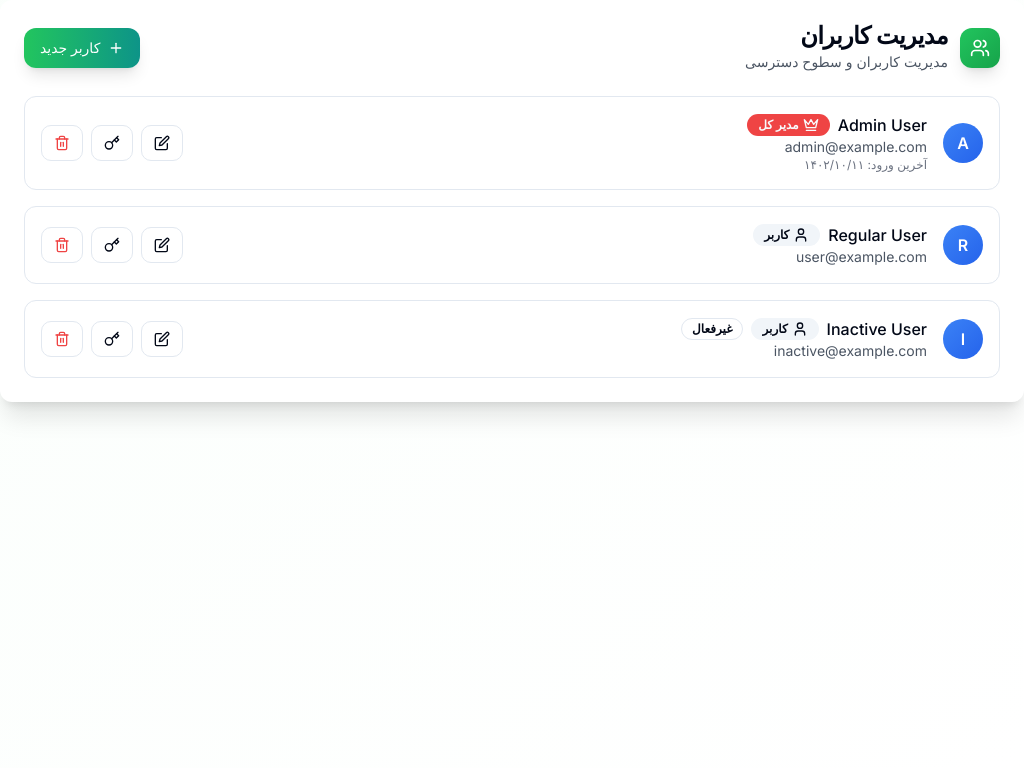
Test: UserManagement › should open create user dialog
This screenshot has width=1024, height=768.
Click the button "کاربر جدید" at (82, 48), box [24,28,140,68]
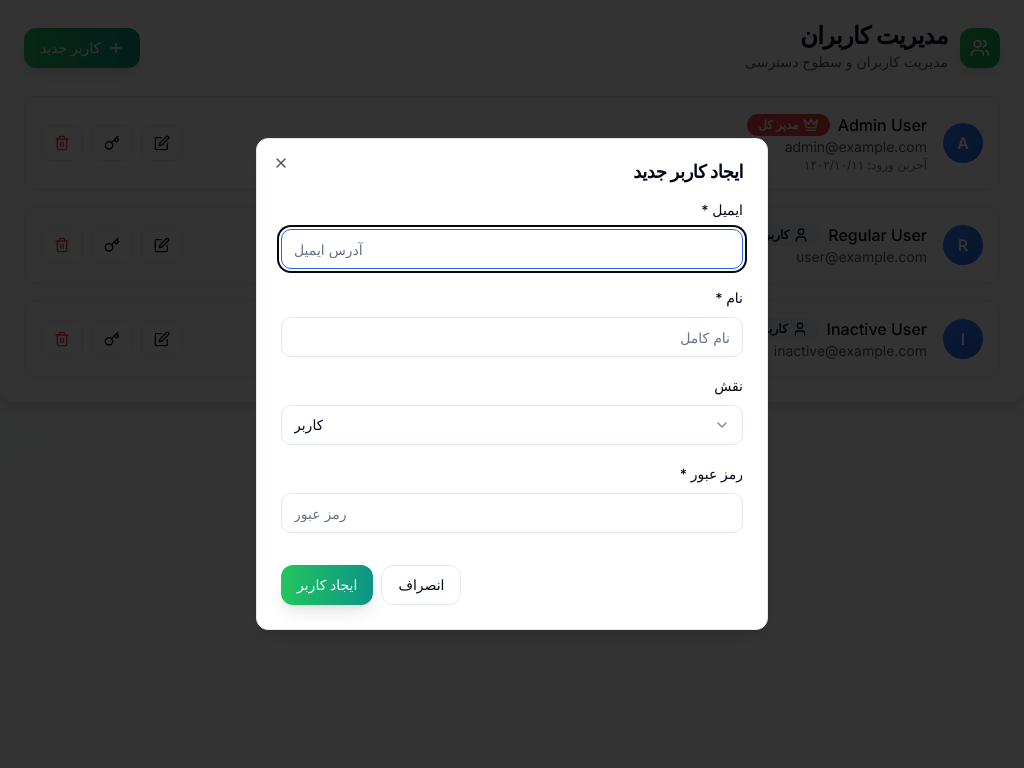
expect the heading "ایجاد کاربر جدید" is shown: met, box [633,161,743,182]
expect the field labelled "ایمیل *" is shown: met, box [281,229,743,269]
expect the field labelled "نام *" is shown: met, box [281,317,743,357]
